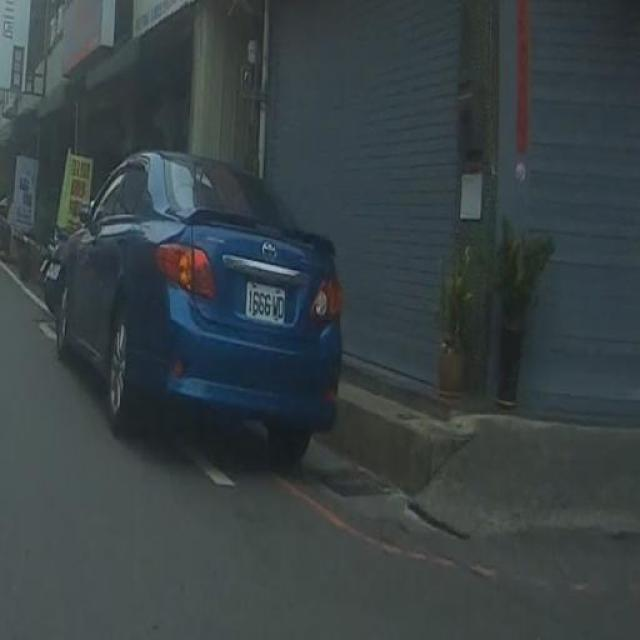illegalparking: (54, 143, 370, 476)
